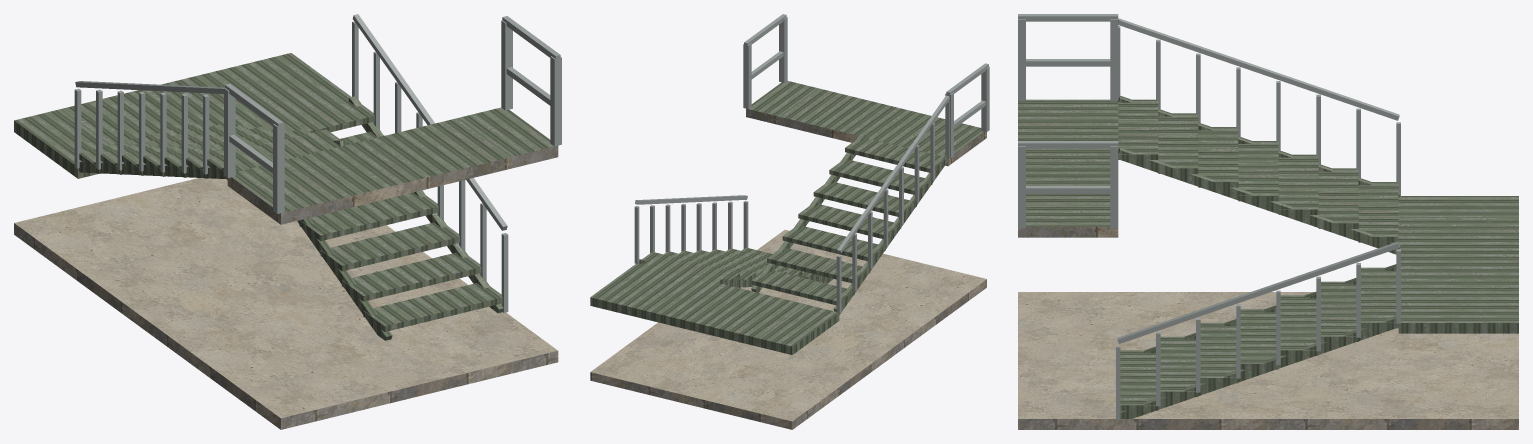
File: cyclone-datum-stair.gltf
3 renders of one model, left to right at view 1: azimuth 30°, elevation 25°; view 2: azimuth 150°, elevation 25°; view 3: azimuth 270°, elevation 25°, orthographic. The views are drawn at different scales.
Visible parts, largest first — view 1: floor-L0-plaster, stairs-L0-metal, walkway-L1-metal, stairs-L0-iron, floor-L0-stone, guards-L1-iron, walkway-L1-stone; view 2: stairs-L0-metal, floor-L0-plaster, walkway-L1-metal, stairs-L0-iron, floor-L0-stone, guards-L1-iron, walkway-L1-stone; view 3: stairs-L0-metal, floor-L0-plaster, walkway-L1-metal, stairs-L0-iron, guards-L1-iron, floor-L0-stone, walkway-L1-stone.
Boxes of the visible parts, box(x1,y1,x2,y2) form: floor-L0-plaster: box(14, 178, 557, 418); stairs-L0-metal: box(14, 53, 503, 340); walkway-L1-metal: box(232, 107, 554, 211); stairs-L0-iron: box(74, 14, 508, 312); floor-L0-stone: box(14, 223, 558, 429); guards-L1-iron: box(224, 16, 561, 213); walkway-L1-stone: box(227, 145, 558, 224); stairs-L0-metal: box(590, 134, 948, 354); floor-L0-plaster: box(590, 230, 986, 421); walkway-L1-metal: box(749, 80, 983, 155); stairs-L0-iron: box(634, 95, 949, 313); floor-L0-stone: box(590, 279, 986, 429); guards-L1-iron: box(743, 14, 989, 158); walkway-L1-stone: box(746, 108, 986, 166); stairs-L0-metal: box(1118, 96, 1518, 418); floor-L0-plaster: box(1018, 292, 1518, 418); walkway-L1-metal: box(1018, 99, 1118, 226); stairs-L0-iron: box(1116, 18, 1400, 419); guards-L1-iron: box(1018, 14, 1118, 228); floor-L0-stone: box(1018, 419, 1518, 429); walkway-L1-stone: box(1018, 226, 1118, 237).
Bounding box in the file's own units: 3.08 × 3.17 × 5.
4 materials, 3 textured.
